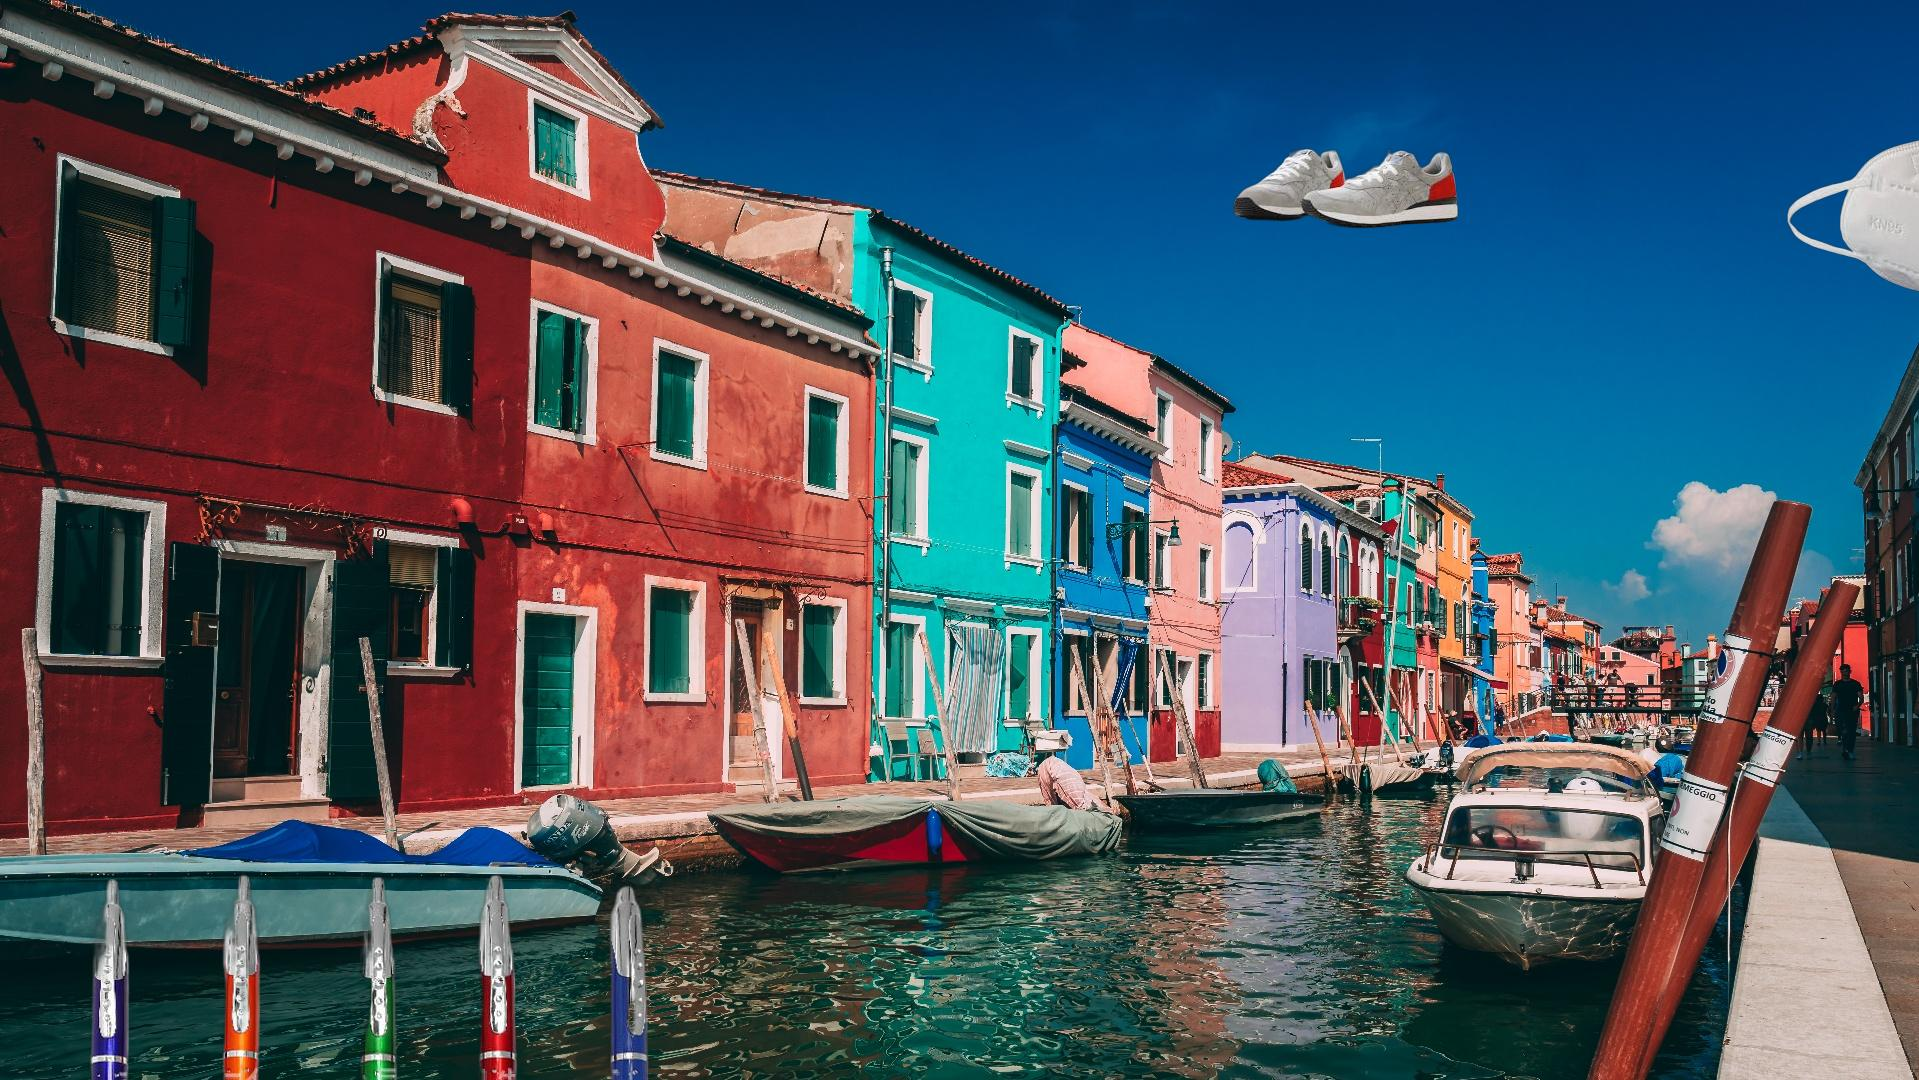penholder: (69, 870, 670, 1080)
shoes: (1231, 146, 1462, 231)
trash: (1785, 127, 1919, 315)
